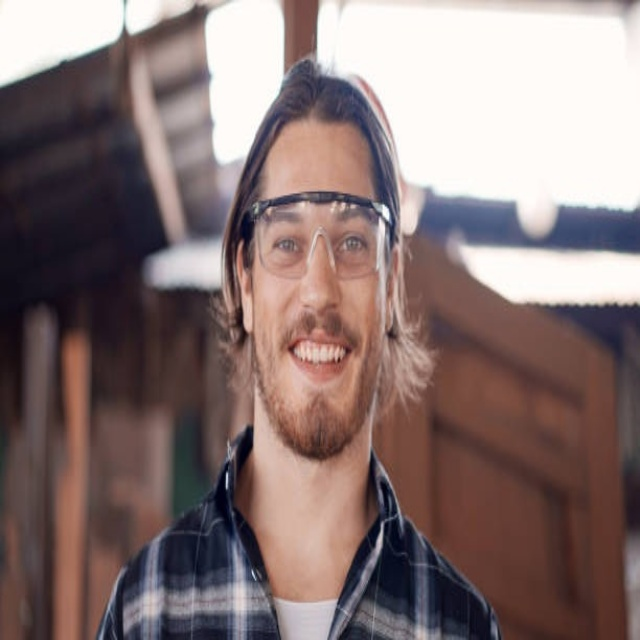Gafas: (245, 197, 394, 280)
Sin_mascara: (283, 316, 356, 433)
